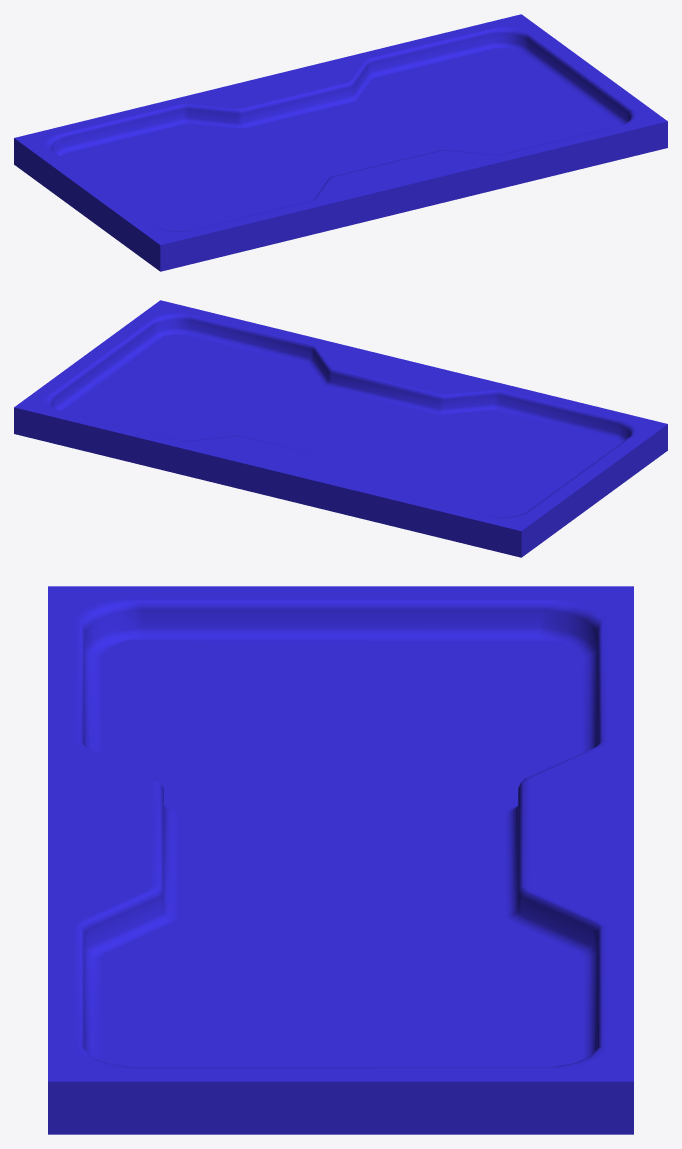
The model's file is Detail02_Lamp.fbx.
3 renders of one model, top to bottom at view 1: azimuth 30°, elevation 25°; view 2: azimuth 150°, elevation 25°; view 3: azimuth 270°, elevation 25°, orthographic. The views are drawn at different scales.
Parts seen in each view (by area): view 1: SM_Detail02_Lamp; view 2: SM_Detail02_Lamp; view 3: SM_Detail02_Lamp.
Boxes of the visible parts, x1,y1,x2,y2 form: SM_Detail02_Lamp: (14, 14, 667, 271); SM_Detail02_Lamp: (14, 300, 667, 557); SM_Detail02_Lamp: (48, 586, 633, 1134).
Size of the model in its own units: 100 by 5 by 50.
